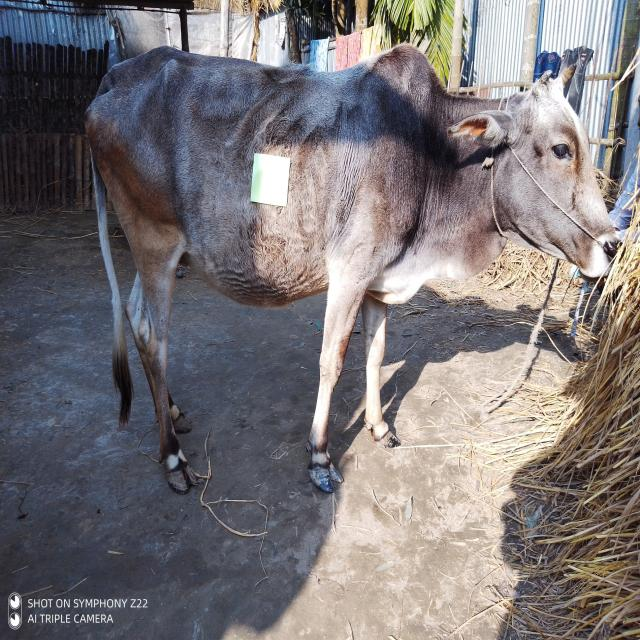badan_sapi: (108, 58, 386, 302)
sapi: (78, 36, 628, 511)
